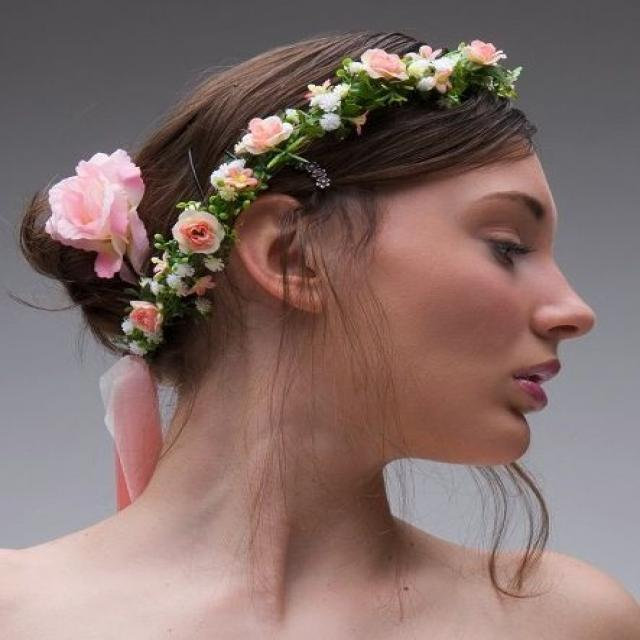Healthy: (71, 288, 492, 603)
